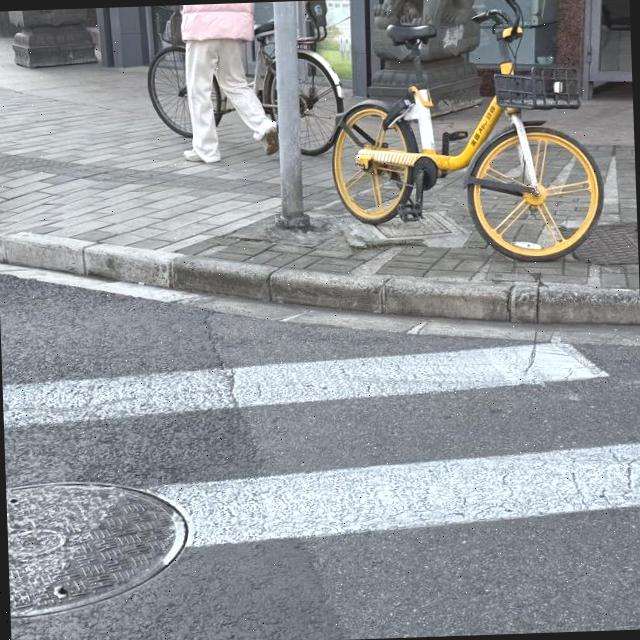curb: (0, 234, 639, 323)
